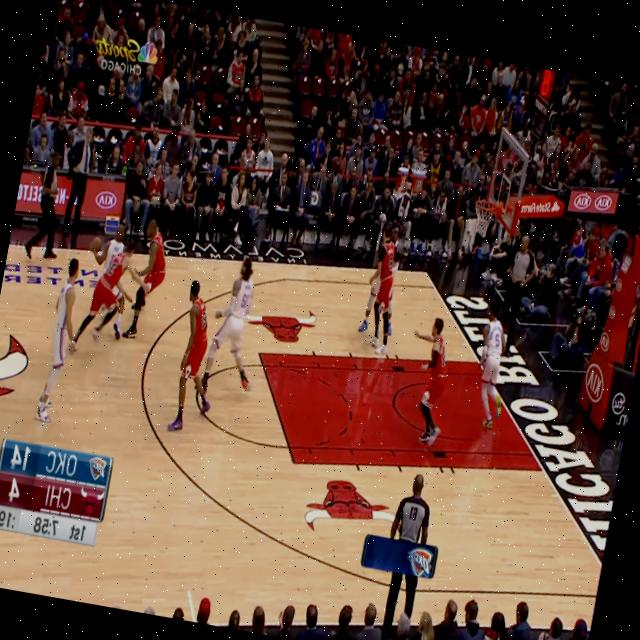no foul: (152, 237, 294, 447), (72, 206, 173, 367), (345, 219, 422, 360)
